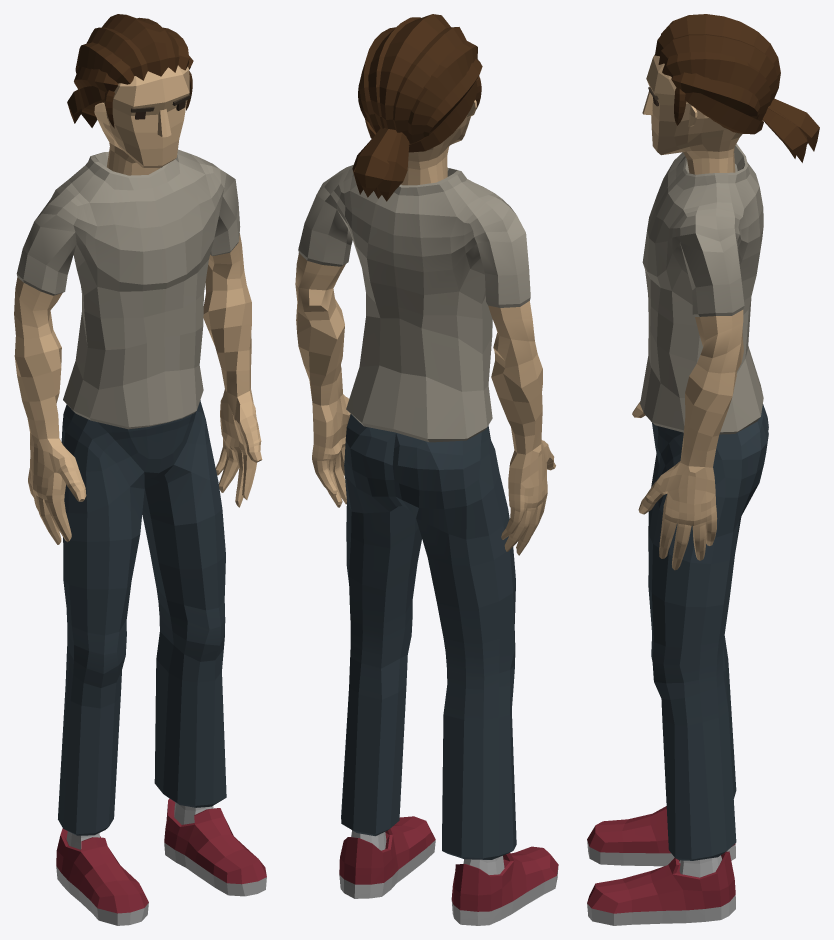
The model's file is man-casual.glb.
3 renders of one model, left to right at view 1: azimuth 30°, elevation 25°; view 2: azimuth 150°, elevation 25°; view 3: azimuth 270°, elevation 25°, orthographic. The views are drawn at different scales.
Visible parts, largest first — view 1: Casual2_Body, Casual2_Legs, Casual2_Head, Casual2_Feet; view 2: Casual2_Body, Casual2_Legs, Casual2_Head, Casual2_Feet; view 3: Casual2_Body, Casual2_Legs, Casual2_Head, Casual2_Feet.
Boxes of the visible parts, x1,y1,x2,y2 form: Casual2_Body: (14, 149, 262, 544); Casual2_Legs: (58, 400, 226, 835); Casual2_Head: (67, 14, 193, 175); Casual2_Feet: (56, 798, 266, 925); Casual2_Body: (295, 165, 555, 555); Casual2_Legs: (341, 414, 516, 859); Casual2_Head: (352, 14, 482, 201); Casual2_Feet: (339, 816, 558, 925); Casual2_Body: (632, 144, 763, 570); Casual2_Legs: (648, 404, 768, 860); Casual2_Head: (642, 14, 819, 174); Casual2_Feet: (587, 806, 735, 925).
Size of the model in its own units: 0.5283 by 1.85 by 0.4489.
